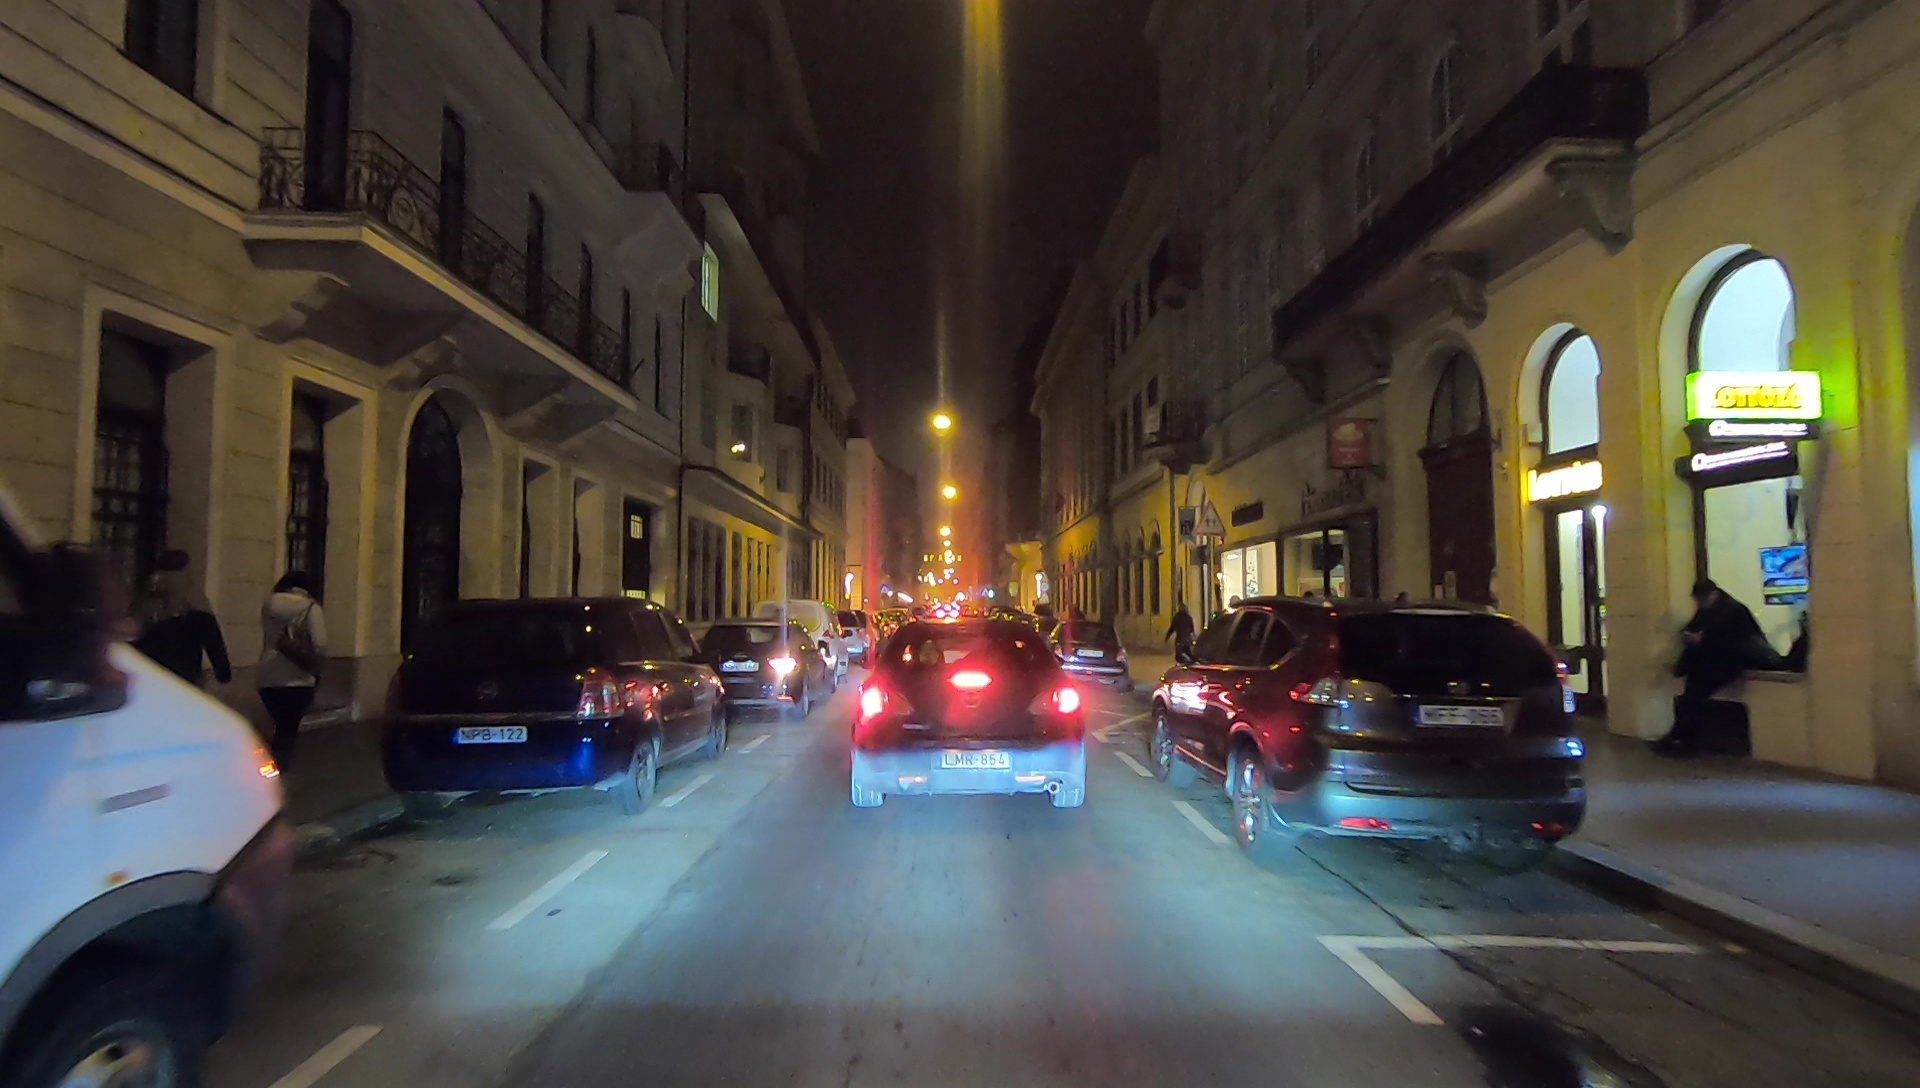person: (1665, 574, 1776, 758), (139, 549, 228, 713), (252, 574, 326, 765), (1165, 602, 1195, 665)
